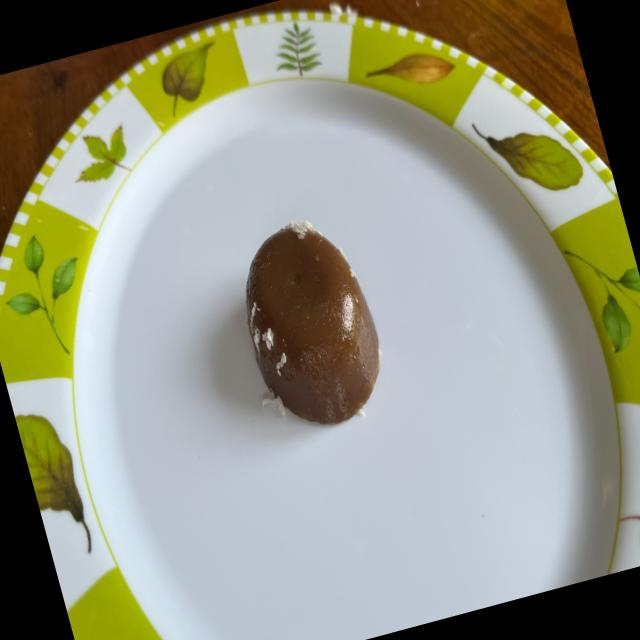Kuih lompang: (245, 220, 379, 424)
